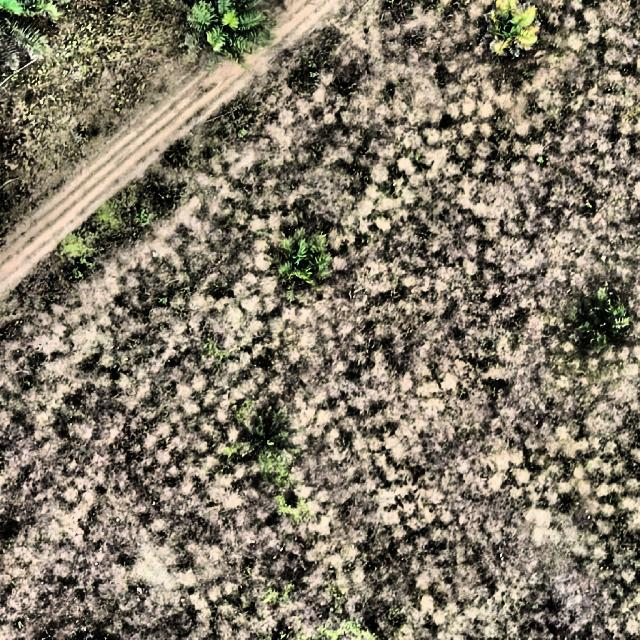Kelapa_Sawit: (185, 5, 274, 68), (272, 230, 341, 304), (477, 5, 550, 68), (578, 290, 630, 362), (238, 414, 300, 474)
